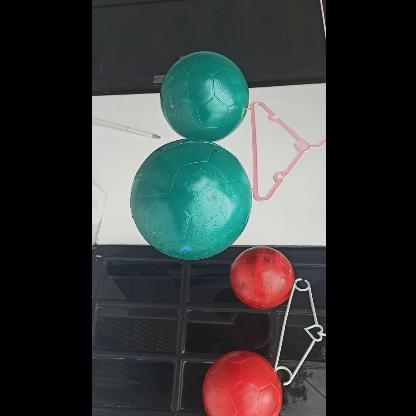red_ball: (201, 352, 282, 415), (229, 248, 293, 312)
